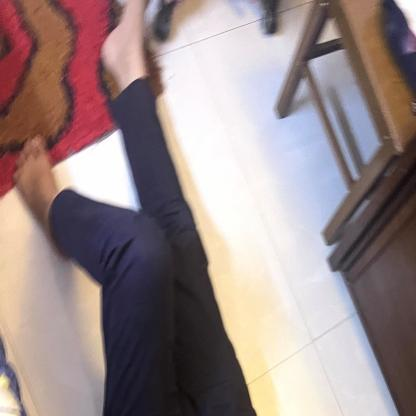leg: (97, 0, 188, 196), (6, 134, 100, 277)
